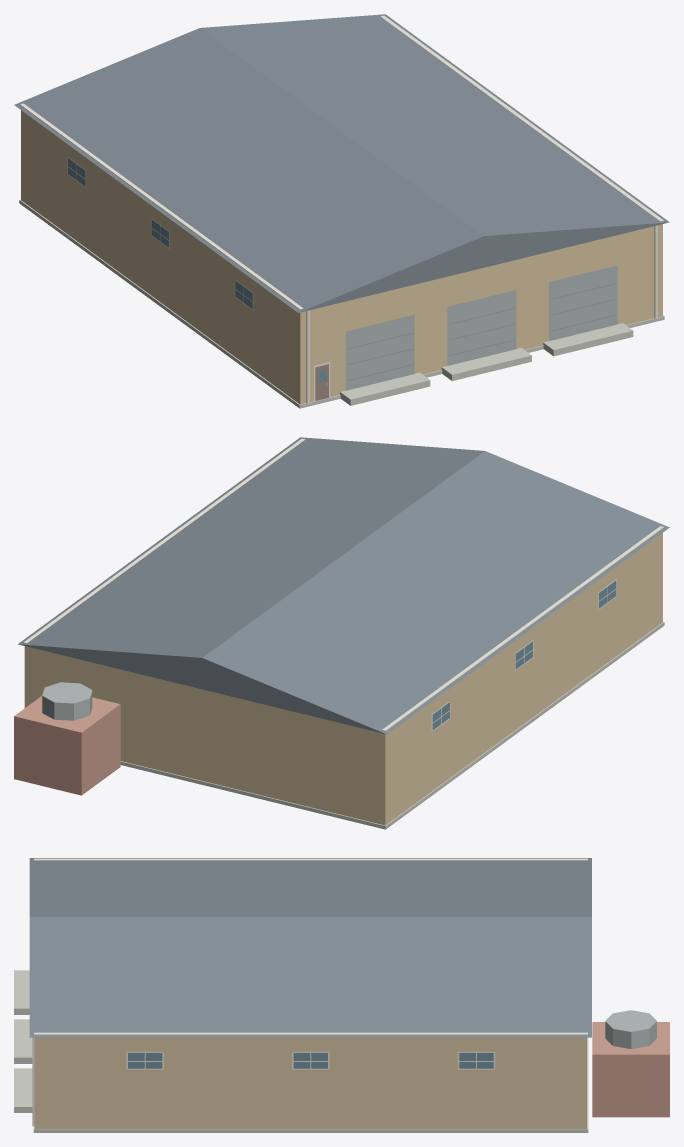
The model's file is warehouse-workshop.glb.
The picture shows the model from 3 angles, top to bottom: view 1: azimuth 30°, elevation 25°; view 2: azimuth 150°, elevation 25°; view 3: azimuth 270°, elevation 25°; orthographic projection.
Visible parts, largest first — view 1: warehouse-workshop; view 2: warehouse-workshop; view 3: warehouse-workshop.
Boxes of the visible parts, box(x1,y1,x2,y2) form: warehouse-workshop: box(14, 14, 669, 408); warehouse-workshop: box(14, 437, 669, 829); warehouse-workshop: box(14, 858, 669, 1132).
Bounding box in the file's own units: 24.6 × 8.2 × 38.01.
